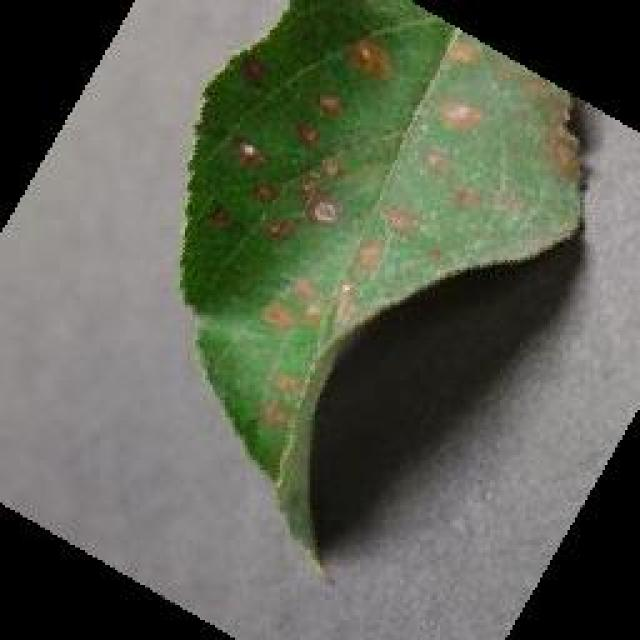apple cedar apple rust: (174, 0, 587, 572)
